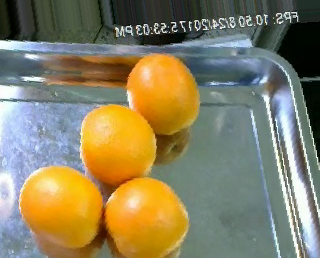Orange: (104, 176, 189, 257), (20, 166, 103, 248), (80, 103, 158, 187), (127, 53, 200, 135)
